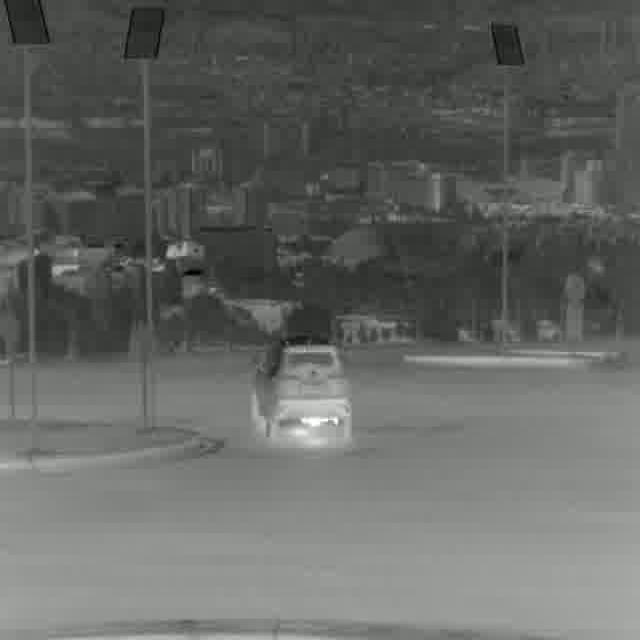Car: (252, 336, 351, 455)
